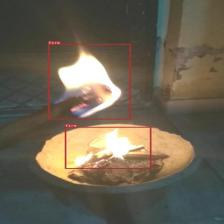fire: (47, 44, 130, 119), (64, 127, 152, 168)
